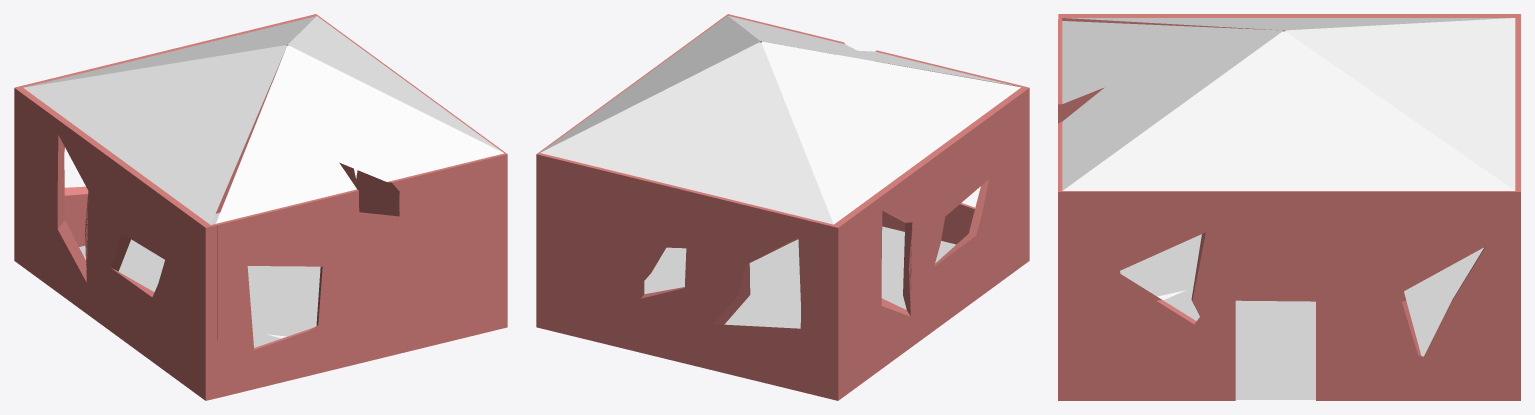
Rendered from storeV3.fbx.
3 views of the same model, side by side, from view 1: azimuth 30°, elevation 25°; view 2: azimuth 150°, elevation 25°; view 3: azimuth 270°, elevation 25° (orthographic). The views are drawn at different scales.
Parts seen in each view (by area): view 1: store; view 2: store; view 3: store.
Boxes of the visible parts, x1,y1,x2,y2 form: store: (14, 14, 507, 400); store: (536, 14, 1029, 400); store: (1058, 14, 1520, 400).
Bounding box in the file's own units: 1715 × 1327 × 1886.
